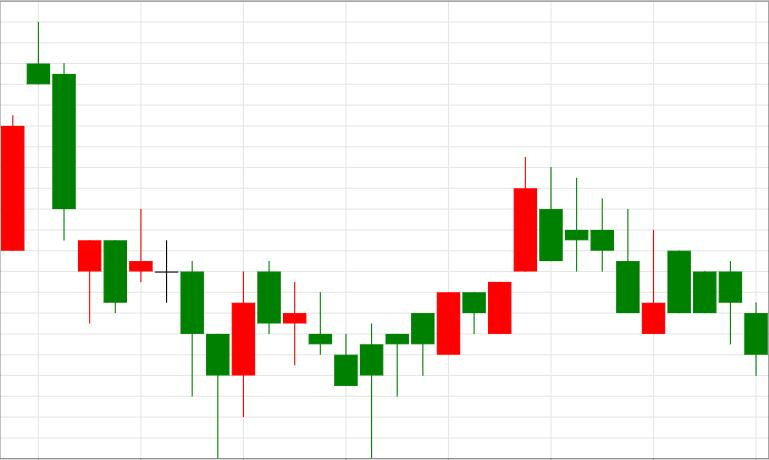hammer_rise: (26, 21, 229, 460)
inverse_hammer_rise: (540, 167, 665, 335)
